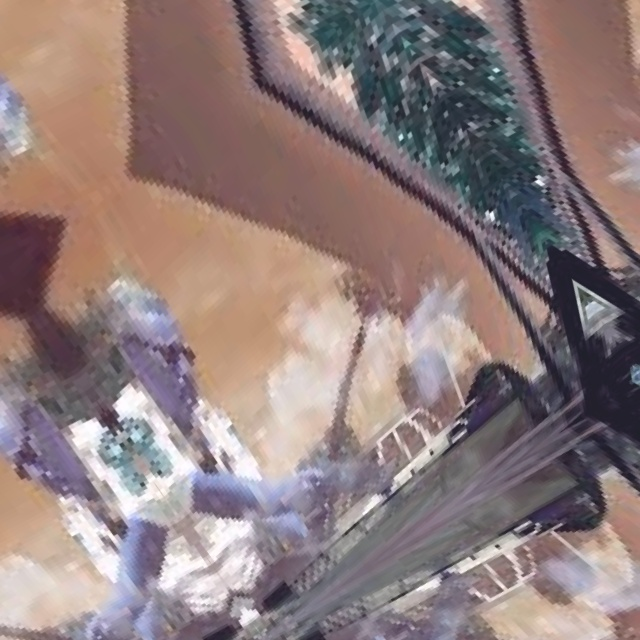ISA: (376, 0, 408, 45), (376, 0, 408, 45)
